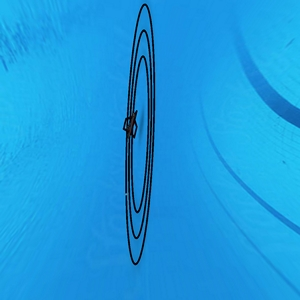circle: (117, 1, 169, 275)
submarine: (121, 112, 144, 142)
